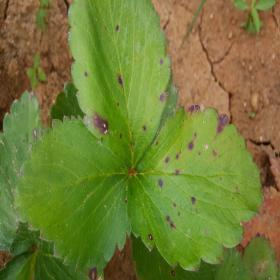Leaf Spot: (125, 104, 265, 272), (11, 114, 133, 272), (66, 0, 172, 172), (0, 90, 45, 251), (0, 240, 109, 279), (129, 235, 216, 279), (241, 232, 279, 279)
